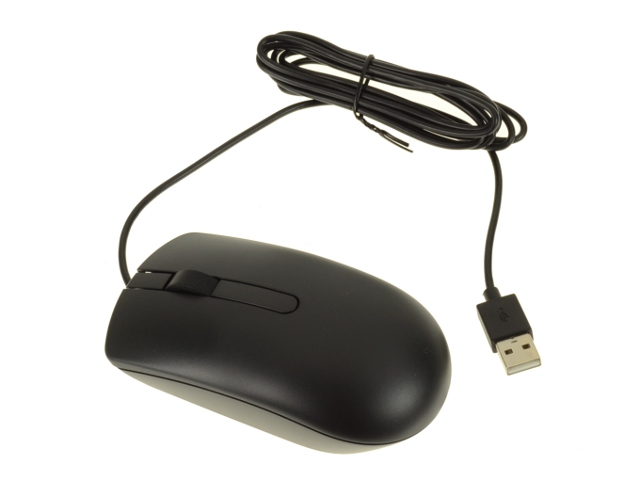dell-mouse-ms116: (106, 24, 544, 459)
